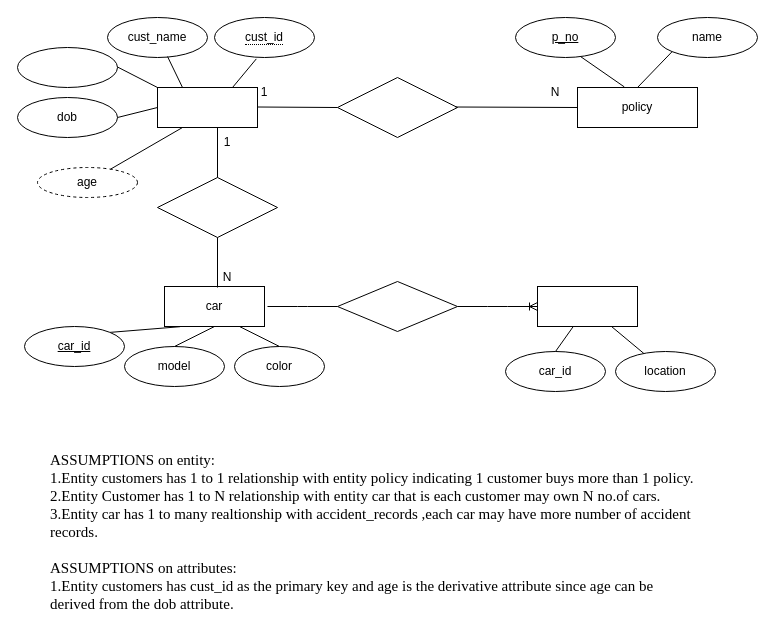
Some shapes in this 775 by 629 pixel diagram are drawn without their labels. The centre of each missing label's shape, as x and y in pixels:
"accident_records" belongs at point (587, 306).
"buys" belongs at point (397, 107).
"cust_addr" belongs at point (67, 67).
"customers" belongs at point (207, 107).
"has" belongs at point (397, 306).
"owns" belongs at point (217, 207).
